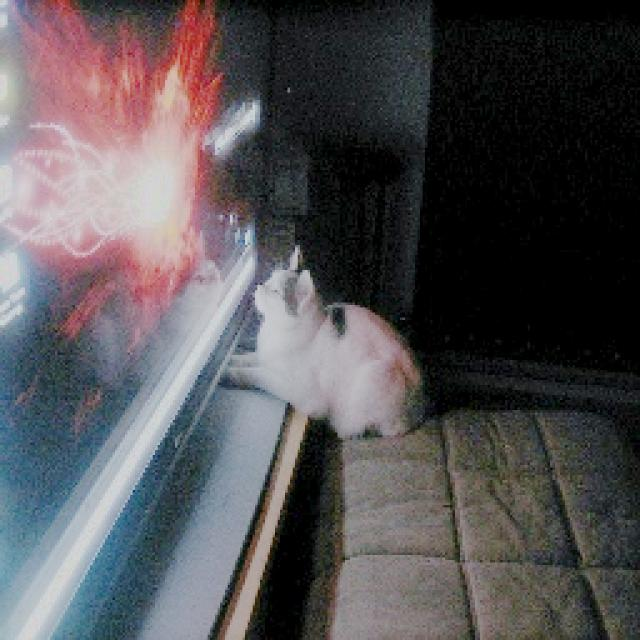cat: (224, 243, 432, 442)
